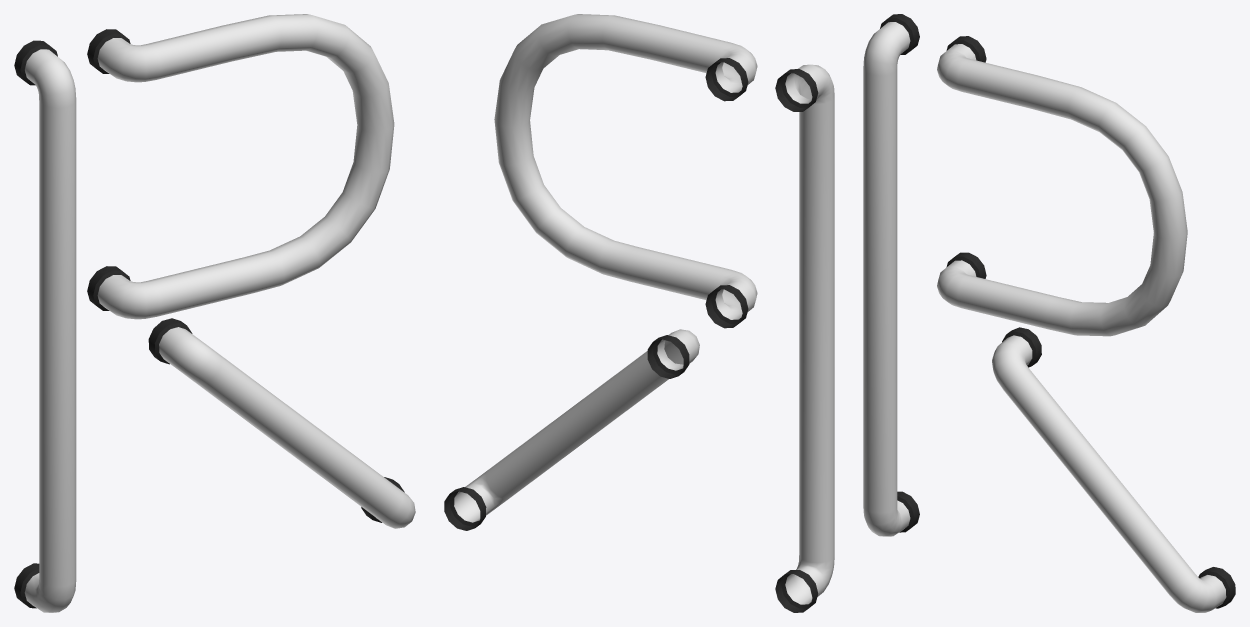
Rendered from LettersNeon01_R.FBX.
3 renders of one model, left to right at view 1: azimuth 30°, elevation 25°; view 2: azimuth 150°, elevation 25°; view 3: azimuth 330°, elevation 25°, orthographic. The views are drawn at different scales.
Parts seen in each view (by area): view 1: LettersNeon01_R; view 2: LettersNeon01_R; view 3: LettersNeon01_R.
Part boxes in pixels (bbox=[...]): LettersNeon01_R: bbox=[14, 14, 415, 612]; LettersNeon01_R: bbox=[444, 14, 834, 612]; LettersNeon01_R: bbox=[863, 14, 1235, 612].
Size of what is drawn, in the model's own units: 0.3592 by 0.503 by 0.054.
